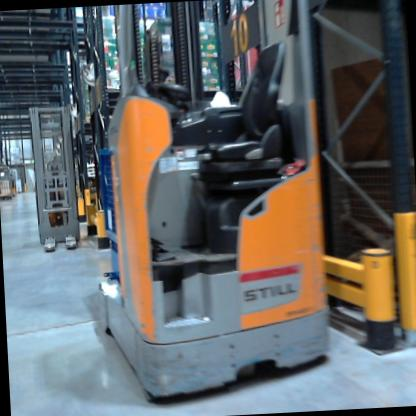forklift: (72, 0, 360, 416)
